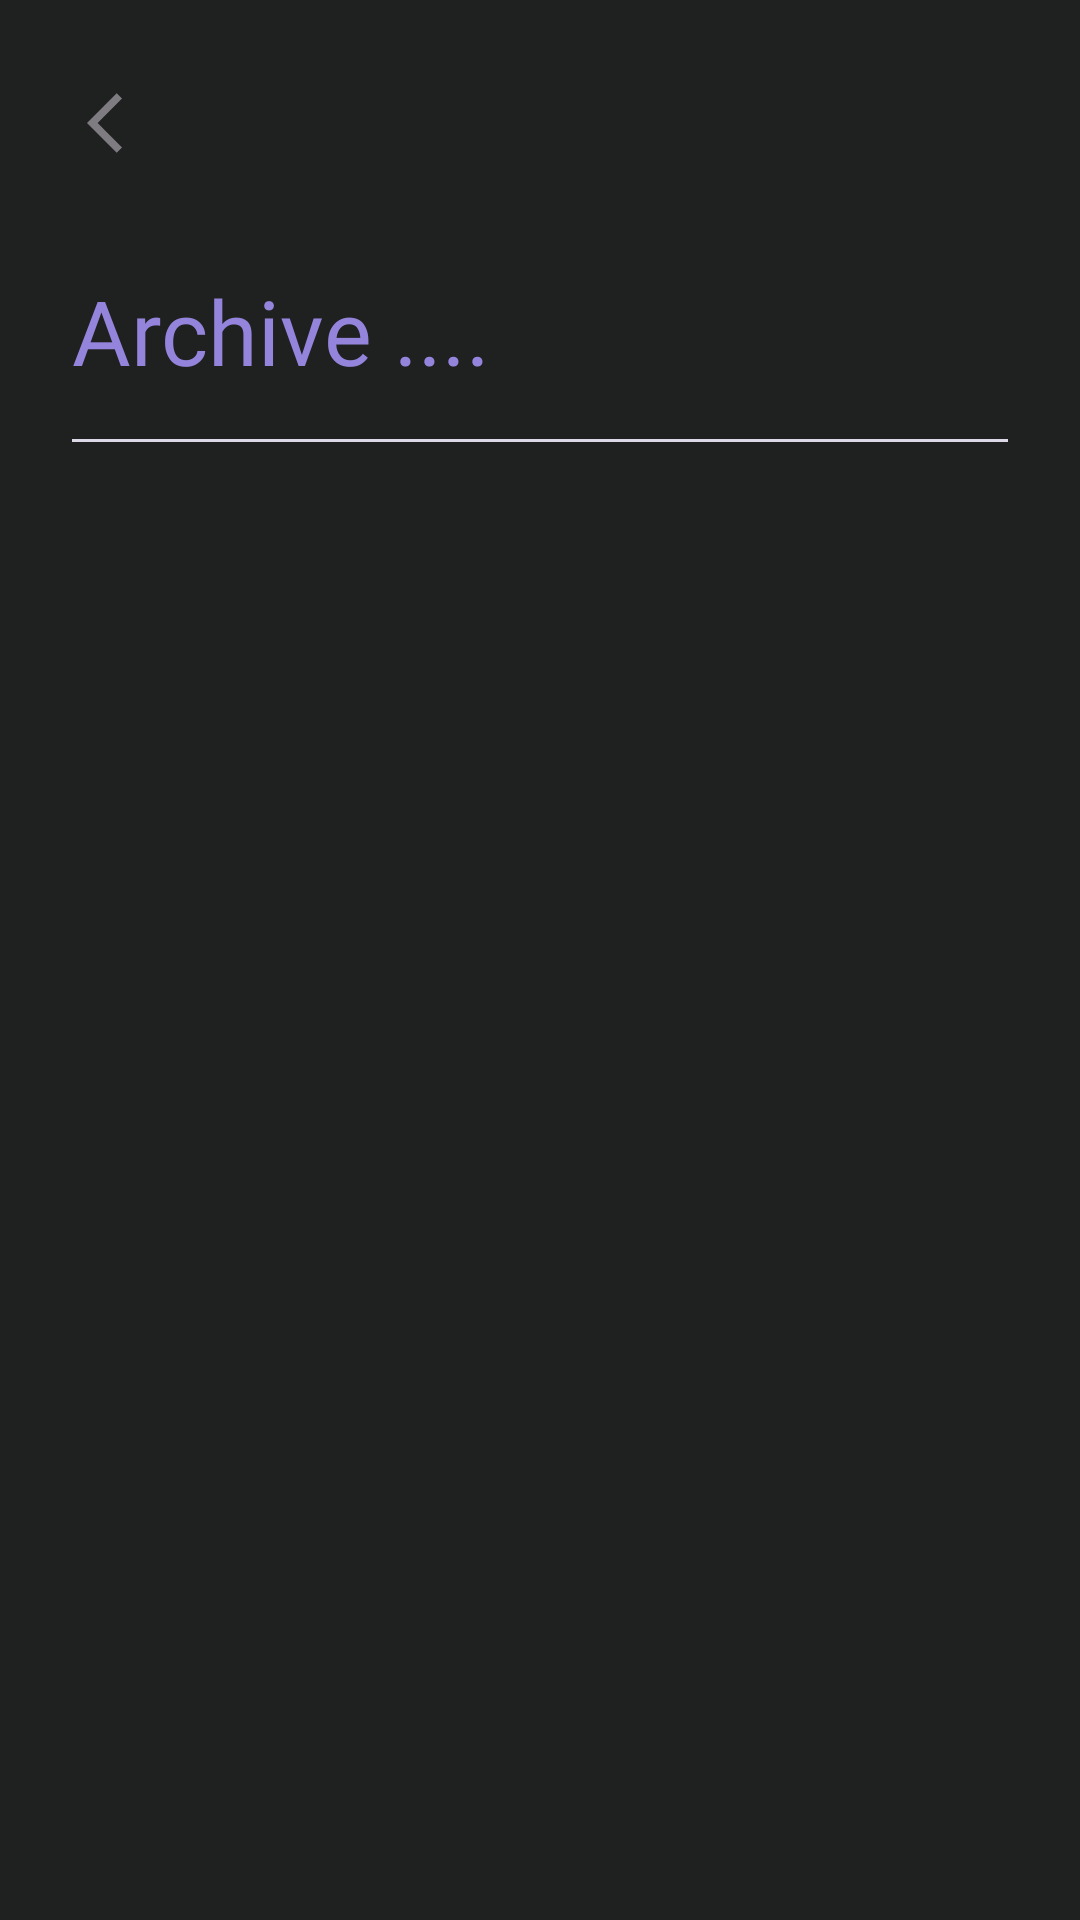

Where to tap for icons on this 1080×1920 app screen, as point (x, y):
arrow back: point (104, 123)
